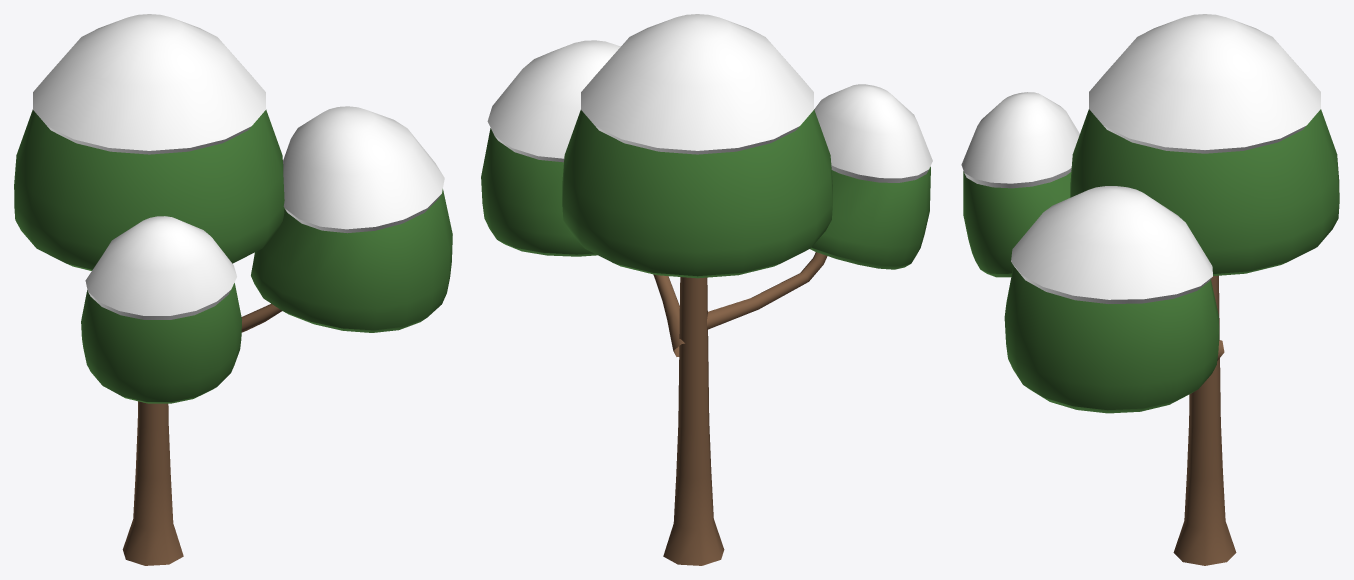
Rendered from SM_tree_snow_01.fbx.
3 renders of one model, left to right at view 1: azimuth 30°, elevation 25°; view 2: azimuth 150°, elevation 25°; view 3: azimuth 270°, elevation 25°, orthographic.
Visible parts, largest first — view 1: Cylinder51275; view 2: Cylinder51275; view 3: Cylinder51275.
Part boxes in pixels (bbox=[...]): Cylinder51275: bbox=[14, 14, 452, 565]; Cylinder51275: bbox=[481, 14, 932, 565]; Cylinder51275: bbox=[961, 14, 1339, 565].
Bounding box in the file's own units: 133 × 175 × 113.
